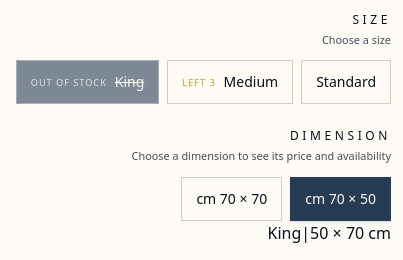
variant picker independence › keeps the chosen size when a dimension is clicked
Step 1. Click the button "70 × 70 cm" → click(232, 199), box [181,177,282,221]
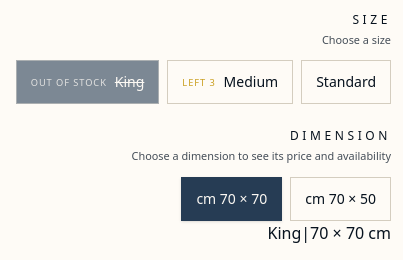
Result: the text with test id "picked" reads "King|70 × 70 cm" at [268,222,391,244]
